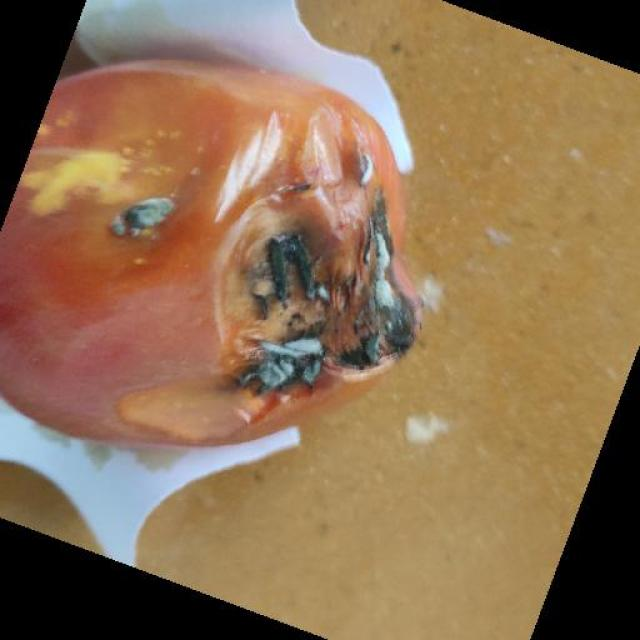Stale_tomato: (9, 40, 407, 472)
